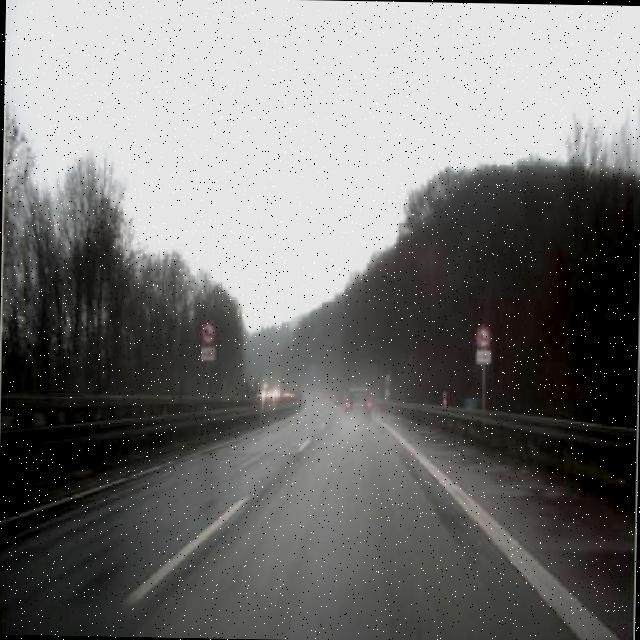Zakaz wyprzedzania: (474, 323, 494, 352)
